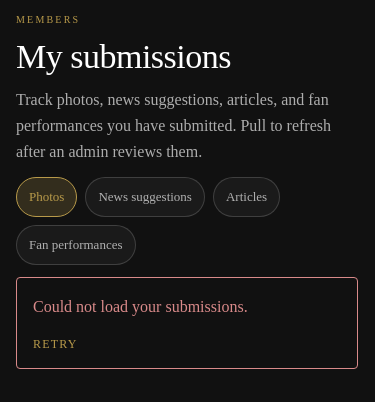
MySubmissionsScreen › shows a load error and retries
Expected: the text "Could not load your submissions." is shown, [33,298,248,315]
Click the button with aria-label "Retry loading submissions" at (55, 344), box [33,328,341,352]
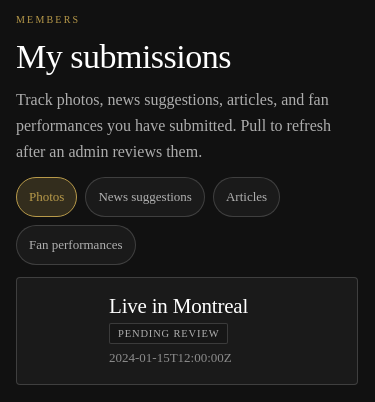
Expected: the text "Live in Montreal" is shown, [109,294,248,318]
